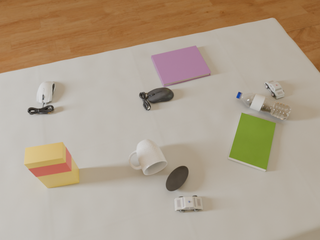book: (228, 113, 276, 171), (151, 46, 211, 87)
bottle: (236, 92, 291, 120)
box: (24, 142, 79, 188)
cup: (129, 139, 167, 175)
mouse: (139, 88, 174, 110), (166, 166, 188, 191), (37, 81, 55, 105)
toy_car: (175, 196, 203, 212), (265, 80, 284, 99)
